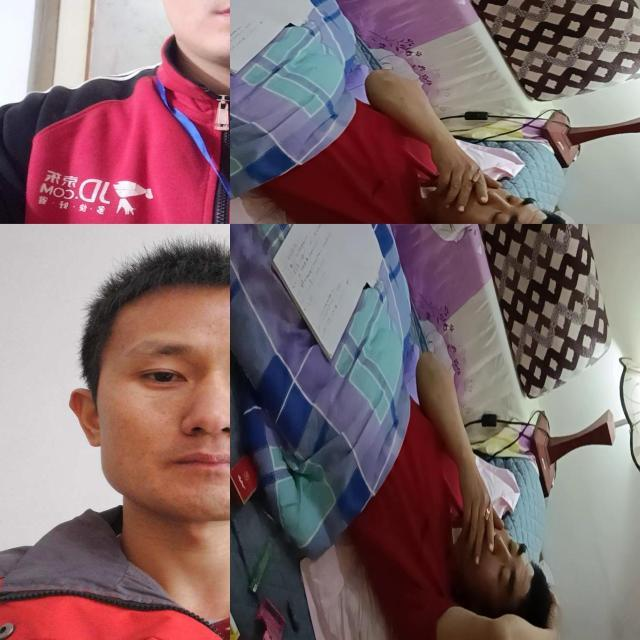smoking: (484, 501, 492, 528), (471, 168, 481, 187)
